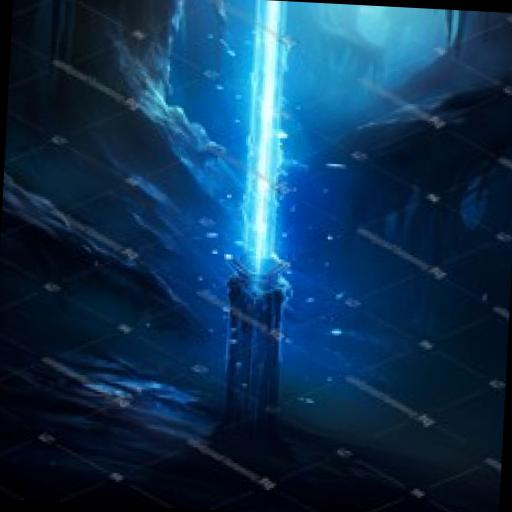lightsaber: (217, 0, 308, 409)
